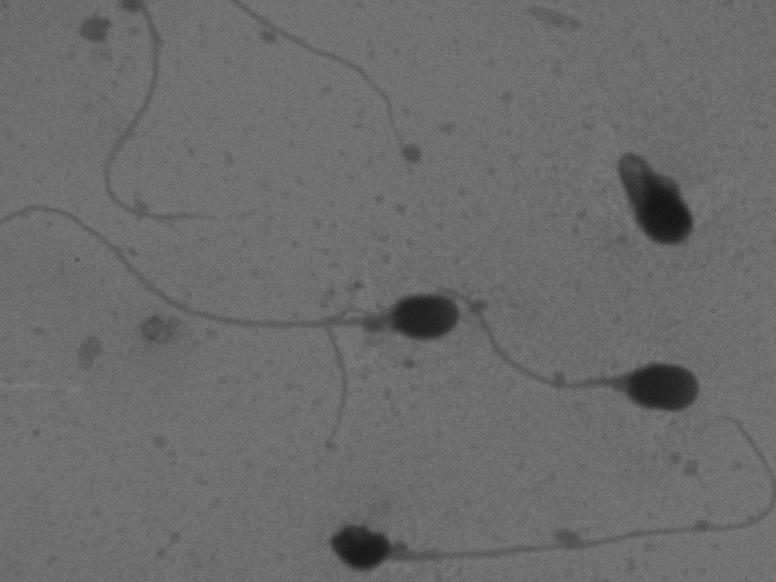Abnormal: (288, 440, 764, 574), (463, 274, 723, 429), (584, 122, 728, 258)
Normal: (4, 173, 477, 355)
